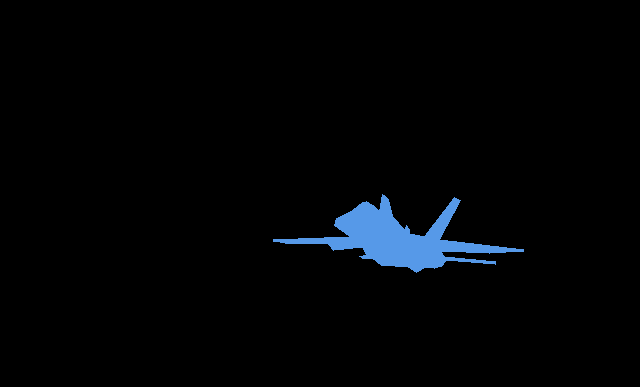Airplane: (273, 194, 523, 273)
